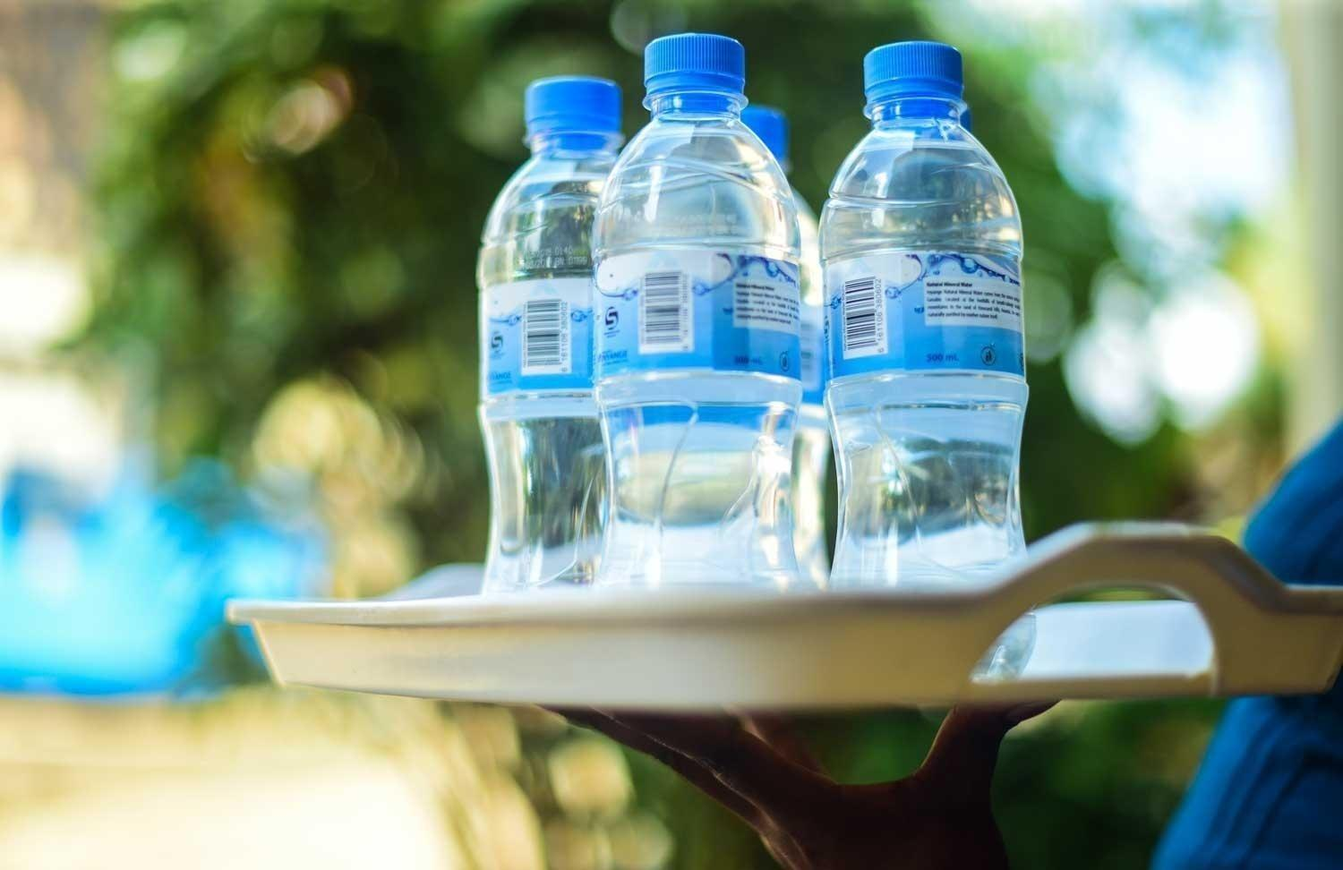bottle-plastic: (589, 22, 815, 590), (813, 35, 1038, 584), (469, 71, 633, 592)
